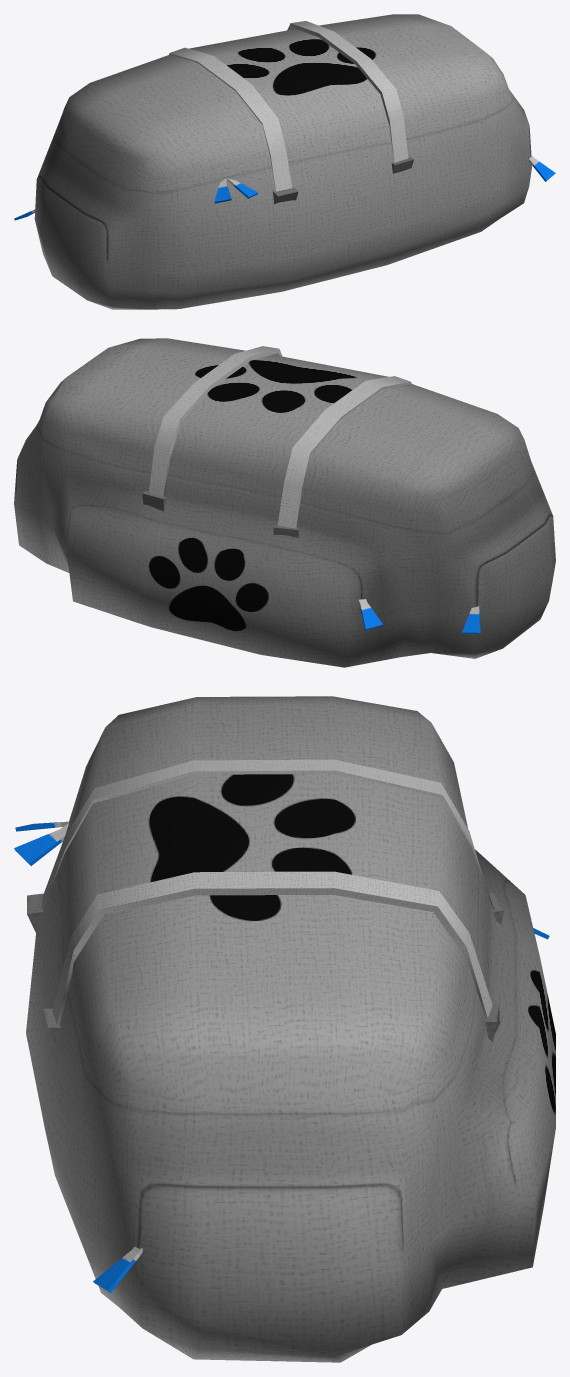
File: bag_2.fbx
The picture shows the model from 3 angles, top to bottom: view 1: azimuth 30°, elevation 25°; view 2: azimuth 150°, elevation 25°; view 3: azimuth 270°, elevation 25°; orthographic projection. The views are drawn at different scales.
Visible parts, largest first — view 1: bag_2; view 2: bag_2; view 3: bag_2.
Boxes of the visible parts, left/top/right/bottom form: bag_2: left=14, top=14, right=555, bottom=309; bag_2: left=14, top=338, right=555, bottom=667; bag_2: left=14, top=696, right=555, bottom=1362.
Bounding box in the file's own units: 1.27 × 0.5319 × 0.6996.
